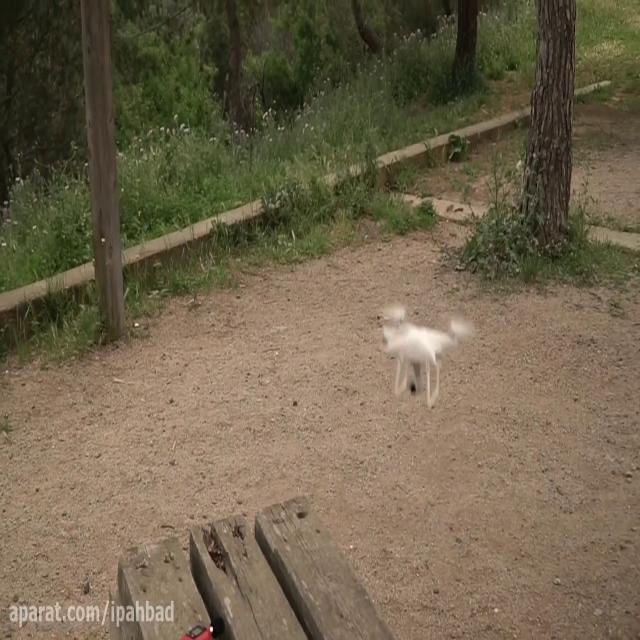drone: (379, 301, 477, 407)
